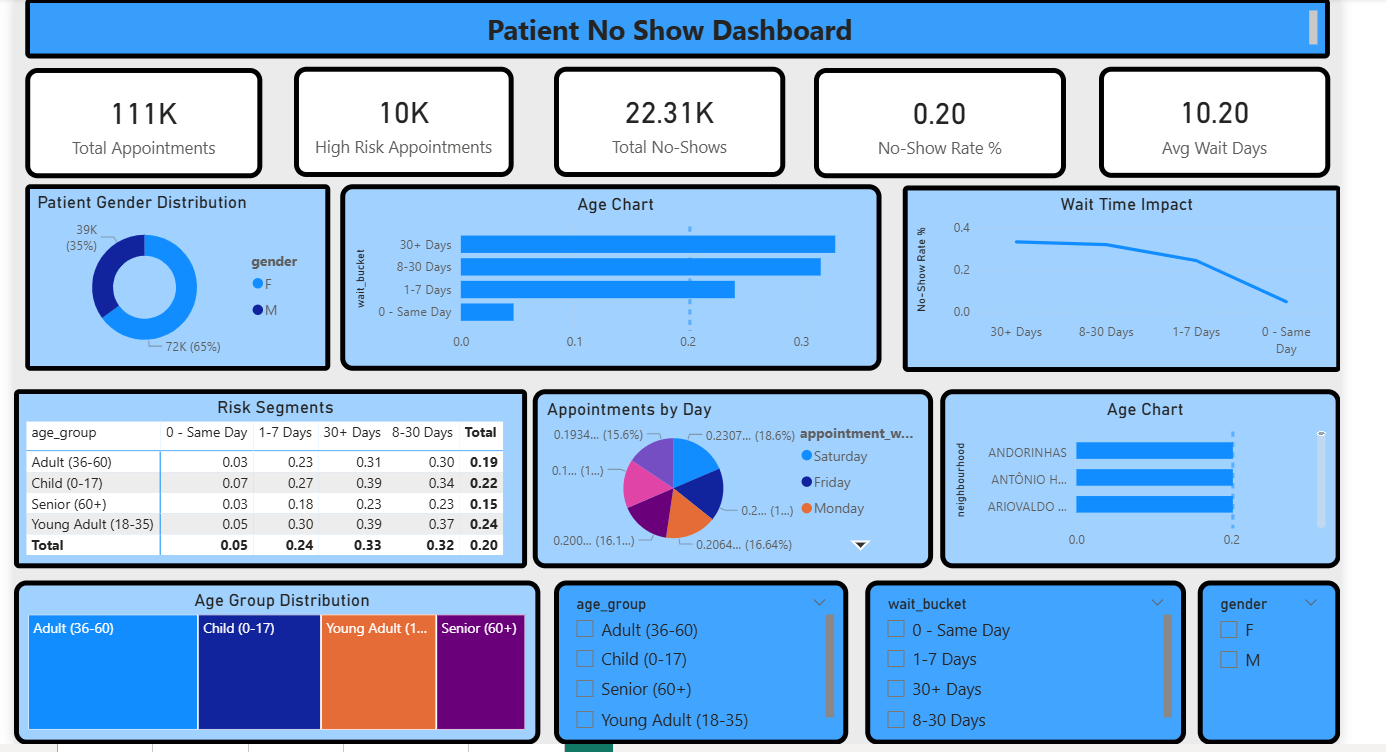

What the dashboard file says about the page in this screenshot:
{"tool":"powerbi","page":{"name":"DashBoard","canvas":[1280,720],"ordinal":3},"visuals":[{"type":"card","fields":{"Values":["_Measures.Total Appointments"]},"box":[11.3,67.9,229.2,106.1],"z":0},{"type":"card","fields":{"Values":["_Measures.No-Show Rate %"]},"box":[772.4,67.9,243.3,106.1],"z":1000},{"type":"card","fields":{"Values":["_Measures.Avg Wait Days"]},"box":[1046.9,66.5,223.5,107.5],"z":2000},{"type":"card","fields":{"Values":["_Measures.High Risk Appointments"]},"box":[270.2,66.5,212.2,106.1],"z":3000},{"type":"slicer","fields":{"Values":["vw_noshow_by_age_wait.age_group"]},"box":[520.6,561.6,284.4,158.4],"z":4000},{"type":"slicer","fields":{"Values":["vw_noshow_by_age_wait.gender"]},"box":[1143.1,561.6,137.2,158.4],"z":5000},{"type":"textbox","box":[11.3,0,1259.1,58],"z":6000},{"type":"pieChart","title":"Appointments by Day","fields":{"Category":["vw_noshow_by_age_wait.appointment_weekday"],"Y":["_Measures.No-Show Rate %"]},"box":[500.8,377.7,386.2,172.6],"z":7000},{"type":"clusteredBarChart","title":"Age Chart","fields":{"Y":["_Measures.No-Show Rate %"],"Category":["vw_noshow_by_age_wait.wait_bucket"]},"box":[315.5,179.7,522,179.7],"z":8000},{"type":"card","fields":{"Values":["_Measures.Total No-Shows"]},"box":[520.6,66.5,223.5,106.1],"z":9000},{"type":"donutChart","title":"Patient Gender Distribution","fields":{"Y":["_Measures.Total Appointments"],"Category":["vw_noshow_by_age_wait.gender"]},"box":[11.3,179.7,294.3,179.7],"z":10000},{"type":"lineChart","title":"Wait Time Impact","fields":{"Category":["vw_noshow_by_age_wait.wait_bucket"],"Y":["_Measures.No-Show Rate %"]},"box":[857.3,181.1,423,179.7],"z":11000},{"type":"pivotTable","title":"Risk Segments","fields":{"Values":["_Measures.No-Show Rate %"],"Rows":["vw_noshow_by_age_wait.age_group"],"Columns":["vw_noshow_by_age_wait.wait_bucket"]},"box":[0,377.7,495.1,172.6],"z":12000},{"type":"treemap","title":"Age Group Distribution","fields":{"Values":["_Measures.Total Appointments"],"Group":["vw_noshow_by_age_wait.age_group"]},"box":[0,561.6,507.9,158.4],"z":13000},{"type":"clusteredBarChart","title":"Age Chart","fields":{"Y":["_Measures.No-Show Rate %"],"Category":["vw_noshow_by_neighbourhood.neighbourhood"]},"box":[894.1,377.7,386.2,172.6],"z":14000},{"type":"slicer","fields":{"Values":["vw_noshow_by_age_wait.wait_bucket"]},"box":[821.9,561.6,309.8,158.4],"z":15000}]}

Visuals, with their boxes in screenshot pixels (x1, y1, x2, y2):
card - _Measures.Total Appointments: bbox=[26, 66, 262, 175]
card - _Measures.No-Show Rate %: bbox=[809, 66, 1059, 175]
card - _Measures.Avg Wait Days: bbox=[1091, 65, 1321, 175]
card - _Measures.High Risk Appointments: bbox=[292, 65, 510, 174]
slicer - vw_noshow_by_age_wait.age_group: bbox=[550, 574, 842, 737]
slicer - vw_noshow_by_age_wait.gender: bbox=[1190, 574, 1331, 737]
textbox: bbox=[26, 0, 1321, 56]
"Appointments by Day" pieChart: bbox=[529, 385, 927, 562]
"Age Chart" clusteredBarChart: bbox=[339, 181, 876, 366]
card - _Measures.Total No-Shows: bbox=[550, 65, 780, 174]
"Patient Gender Distribution" donutChart: bbox=[26, 181, 329, 366]
"Wait Time Impact" lineChart: bbox=[896, 183, 1331, 367]
"Risk Segments" pivotTable: bbox=[14, 385, 524, 562]
"Age Group Distribution" treemap: bbox=[14, 574, 537, 737]
"Age Chart" clusteredBarChart: bbox=[934, 385, 1331, 562]
slicer - vw_noshow_by_age_wait.wait_bucket: bbox=[860, 574, 1178, 737]
